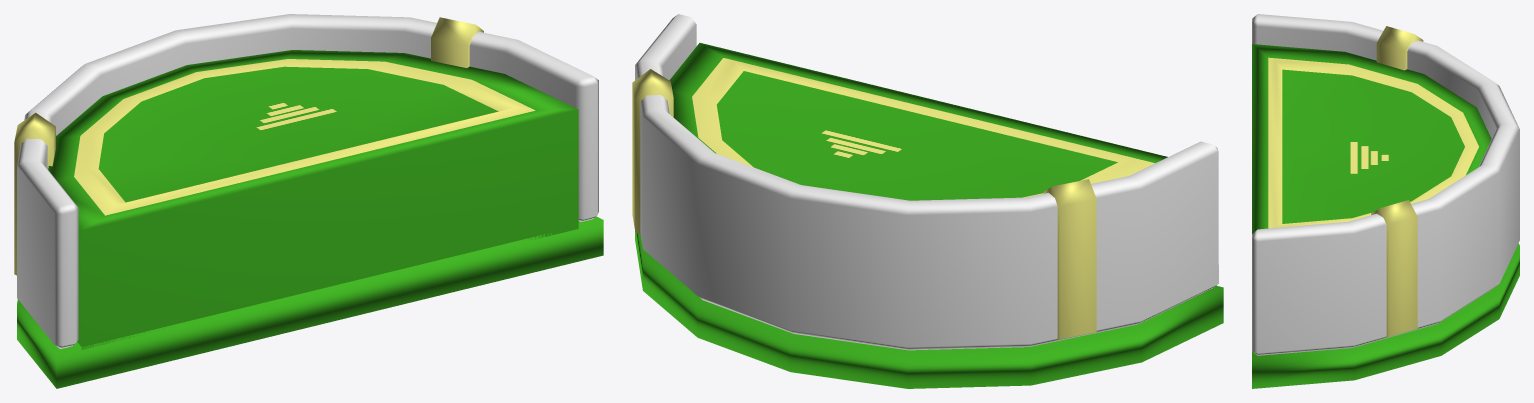
File: MEC0110017.fbx
3 views of the same model, side by side, from view 1: azimuth 30°, elevation 25°; view 2: azimuth 150°, elevation 25°; view 3: azimuth 270°, elevation 25° (orthographic). The views are drawn at different scales.
Parts seen in each view (by area): view 1: smMEC0110017; view 2: smMEC0110017; view 3: smMEC0110017.
Part boxes in pixels (left/top/right/bottom): smMEC0110017: left=14, top=14, right=603, bottom=388; smMEC0110017: left=632, top=14, right=1223, bottom=388; smMEC0110017: left=1252, top=14, right=1519, bottom=388.
Size of the model in its own units: 304 by 100 by 152.
Materials: 1 (1 with a texture image).
